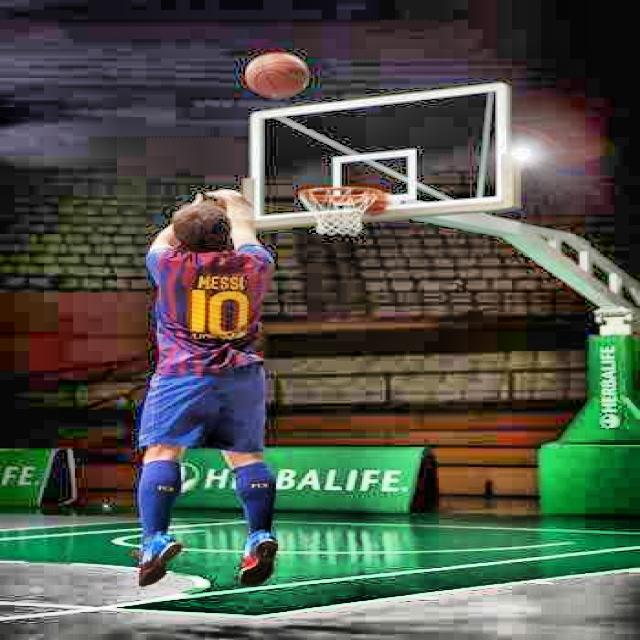board: (244, 53, 310, 97)
rim: (296, 185, 381, 236)
